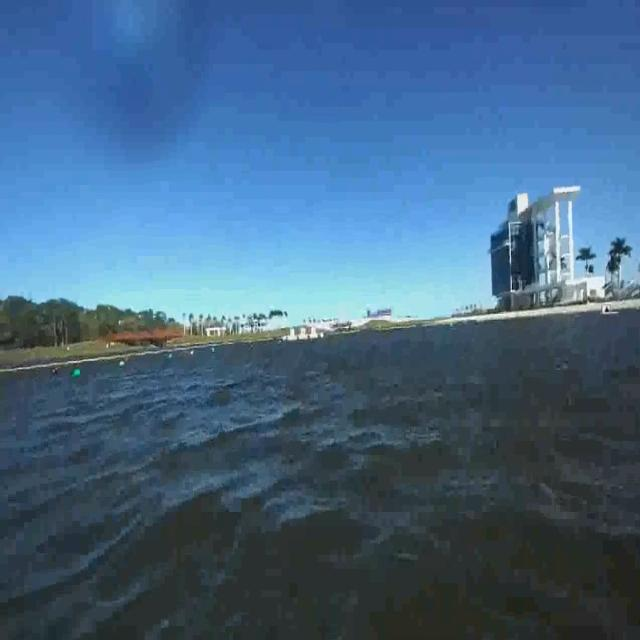green-buoy: (71, 365, 83, 381)
